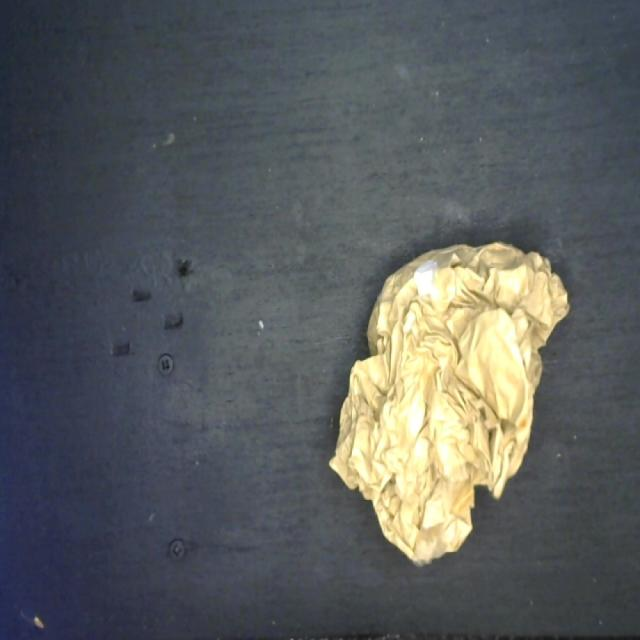biodegradable: (322, 234, 578, 568)
